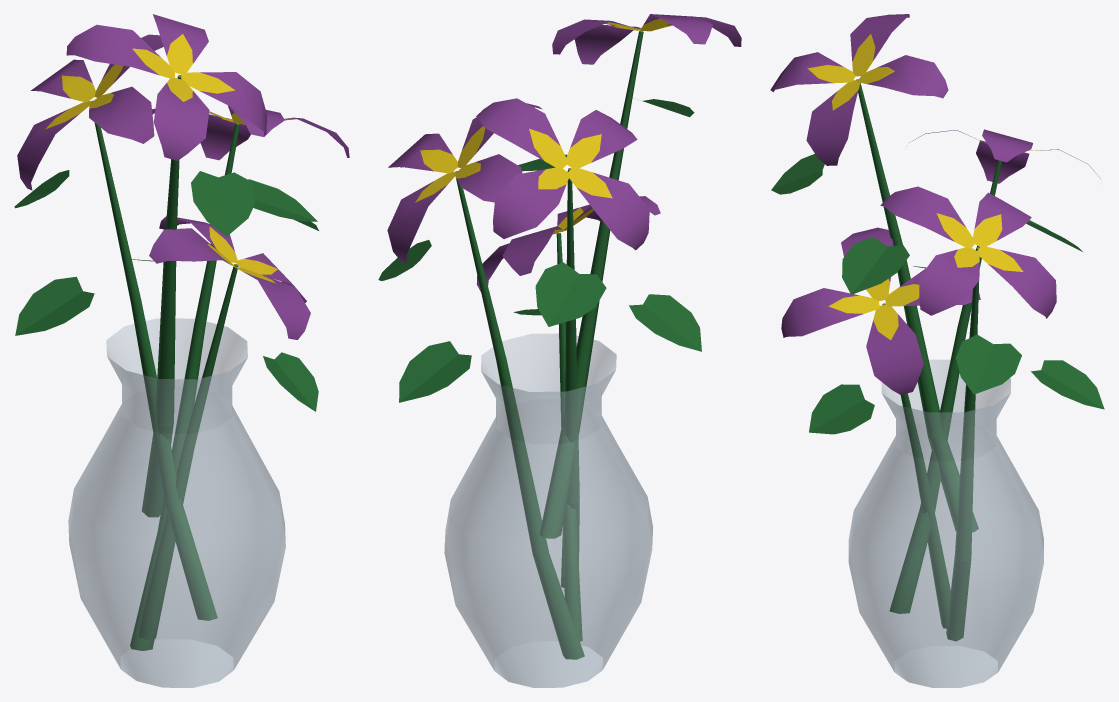
3 views of the same model, side by side, from view 1: azimuth 30°, elevation 25°; view 2: azimuth 150°, elevation 25°; view 3: azimuth 270°, elevation 25° (orthographic). The views are drawn at different scales.
Parts seen in each view (by area): view 1: Mesh1_Vase_Quarter1_vase_thin1_Model; view 2: Mesh1_Vase_Quarter1_vase_thin1_Model; view 3: Mesh1_Vase_Quarter1_vase_thin1_Model.
Part boxes in pixels (<box>): Mesh1_Vase_Quarter1_vase_thin1_Model: <box>14,14,349,687</box>; Mesh1_Vase_Quarter1_vase_thin1_Model: <box>378,14,741,687</box>; Mesh1_Vase_Quarter1_vase_thin1_Model: <box>770,14,1104,687</box>.
Size of the model in its own units: 0.5 by 1 by 0.5.
